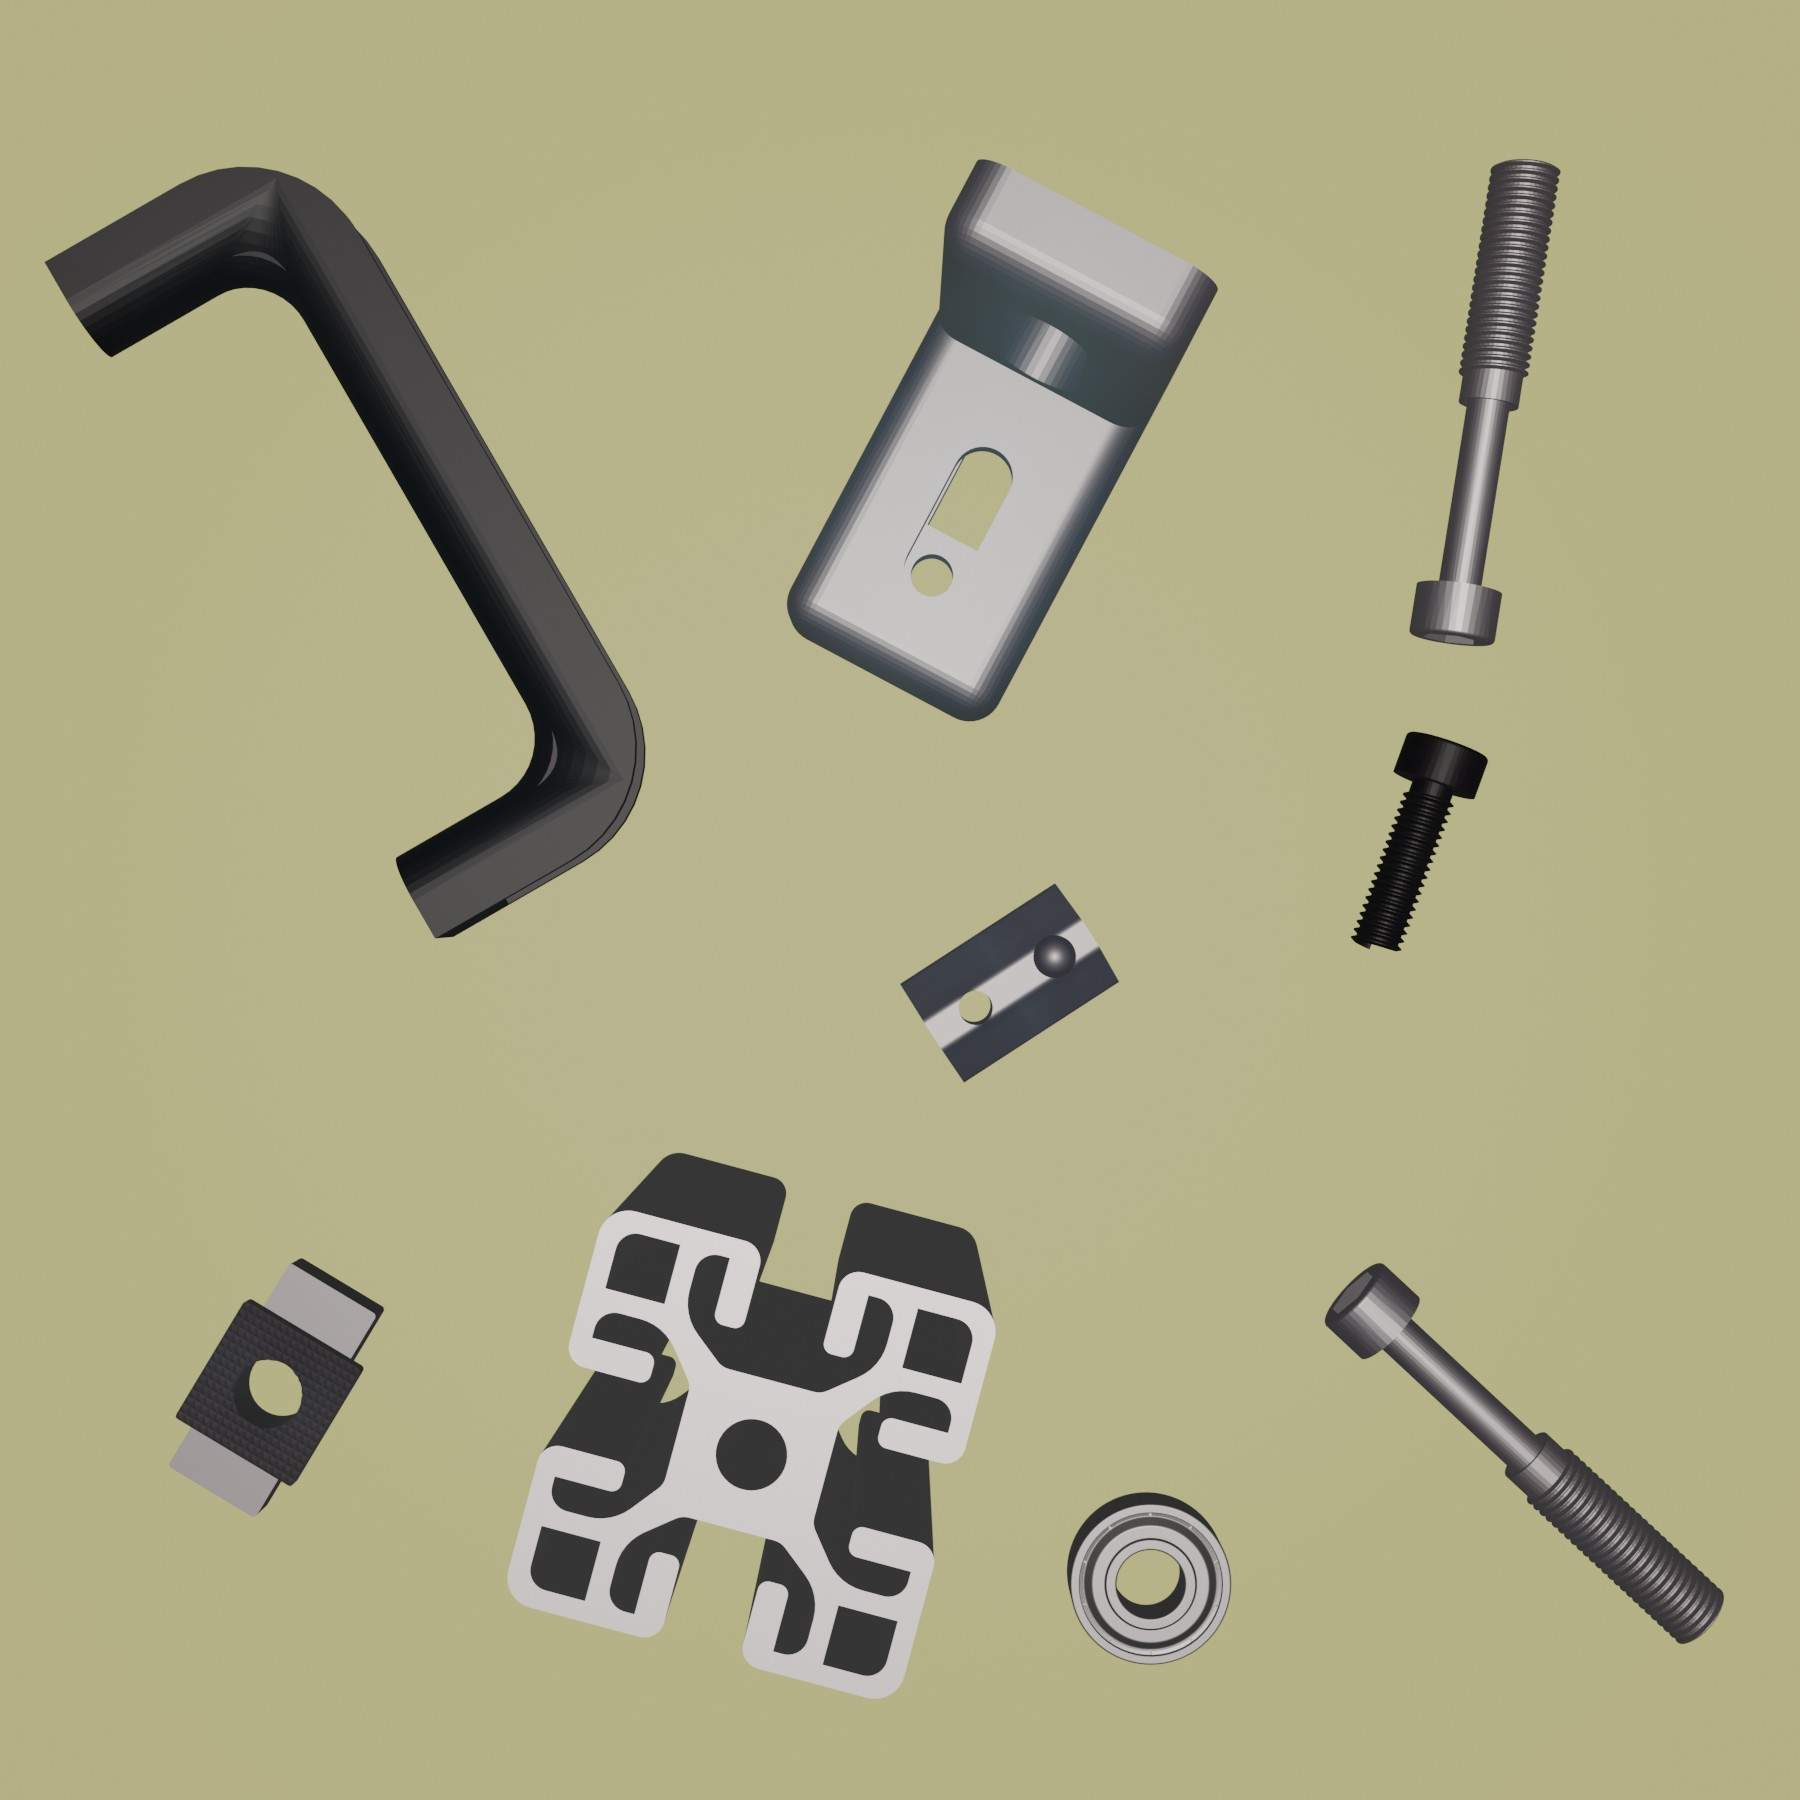Aluminium Extension: (504, 1151, 997, 1704)
Ball Bearing: (1065, 1492, 1233, 1670)
Multiwinkel: (786, 155, 1221, 724)
Pull Handle: (41, 163, 651, 941)
Shoulder Socket Head Cap Screw: (1324, 1258, 1727, 1648), (1404, 155, 1563, 649)
Socket Head Cap Screw: (1350, 730, 1488, 954)
T Nut Square: (166, 1254, 386, 1520)
T Spring Nut: (898, 880, 1123, 1081)
